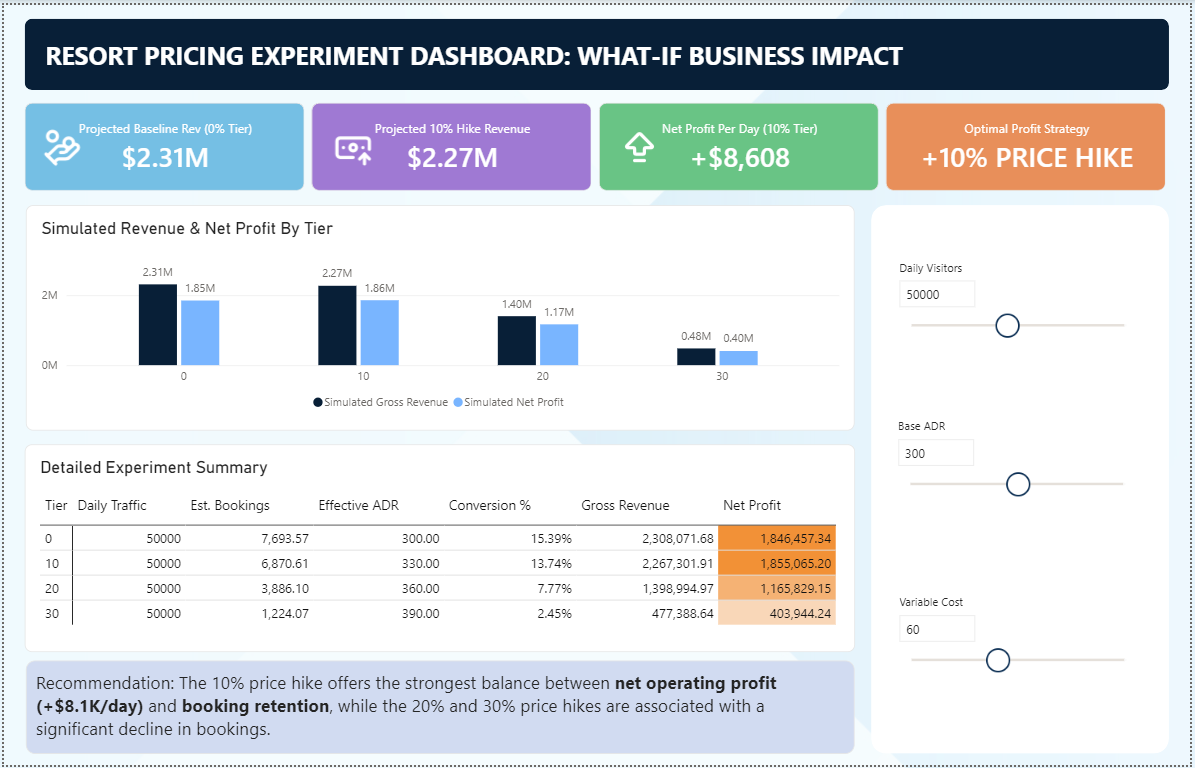

What the dashboard file says about the page in this screenshot:
{"tool":"powerbi","page":{"name":"What-If Analysis","canvas":[1280,820],"ordinal":1},"visuals":[{"type":"cardVisual","fields":{"Data":["Measure.Projected Baseline Rev","Measure.Projected 10% Hike Revenue","Measure.Projected 10% Net Profit","Measure.Strategy Label"]},"box":[22.3,105.5,1235.4,113],"z":0},{"type":"shape","box":[22.3,229.7,324.1,583.6],"z":0,"group":"g1"},{"type":"clusteredColumnChart","title":"Simulated Revenue & Net Profit By Tier","fields":{"Category":["data.price_increase_pct"],"Y":["Measure.Simulated Gross Revenue","Measure.Simulated Net Profit"]},"box":[358.8,229.7,895.2,249.6],"z":1000},{"type":"slicer","fields":{"Values":["Base ADR .Base ADR "]},"box":[35.8,438.8,289.3,115.2],"z":1000,"group":"g1"},{"type":"slicer","fields":{"Values":["Daily Visitors.Daily Visitors"]},"box":[37,266,289.3,108.9],"z":2000,"group":"g1"},{"type":"pivotTable","title":"Detailed Experiment Summary","fields":{"Rows":["data.price_increase_pct"],"Values":["Daily Visitors.Daily Visitors Value","Measure.Simulated Bookings","Measure.Effective Room Price","Measure.Overall Conversion Rate","Measure.Simulated Gross Revenue","Measure.Simulated Net Profit"]},"box":[357.6,488,896.5,218.5],"z":2000},{"type":"shape","box":[22.3,14.9,1235.4,77],"z":3000},{"type":"slicer","fields":{"Values":["Variable Cost.Variable Cost"]},"box":[37,630.4,289.3,121.5],"z":3000,"group":"g1"},{"type":"textbox","box":[358.8,712.7,895.2,100.6],"z":4000},{"type":"actionButton","box":[247.1,142.8,78.2,64.6],"z":5000},{"type":"actionButton","box":[550,142.8,78.2,64.6],"z":6000},{"type":"actionButton","box":[862.9,142.8,78.2,64.6],"z":7000},{"type":"group","id":"g1","title":"slider group","box":[22.3,229.7,324.1,583.6],"z":8000}]}

Visuals, with their boxes in screenshot pixels (x1, y1, x2, y2), scaled from the page's 1280x820 canvas onto the 1195x768 screenshot:
cardVisual - Measure.Projected Baseline Rev x Measure.Projected 10% Hike Revenue: <box>21,99,1174,205</box>
shape: <box>21,215,323,762</box>
"Simulated Revenue & Net Profit By Tier" clusteredColumnChart: <box>335,215,1171,449</box>
slicer - Base ADR .Base ADR : <box>33,411,304,519</box>
slicer - Daily Visitors.Daily Visitors: <box>35,249,305,351</box>
"Detailed Experiment Summary" pivotTable: <box>334,457,1171,662</box>
shape: <box>21,14,1174,86</box>
slicer - Variable Cost.Variable Cost: <box>35,590,305,704</box>
textbox: <box>335,668,1171,762</box>
actionButton: <box>231,134,304,194</box>
actionButton: <box>513,134,586,194</box>
actionButton: <box>806,134,879,194</box>
"slider group" group: <box>21,215,323,762</box>
